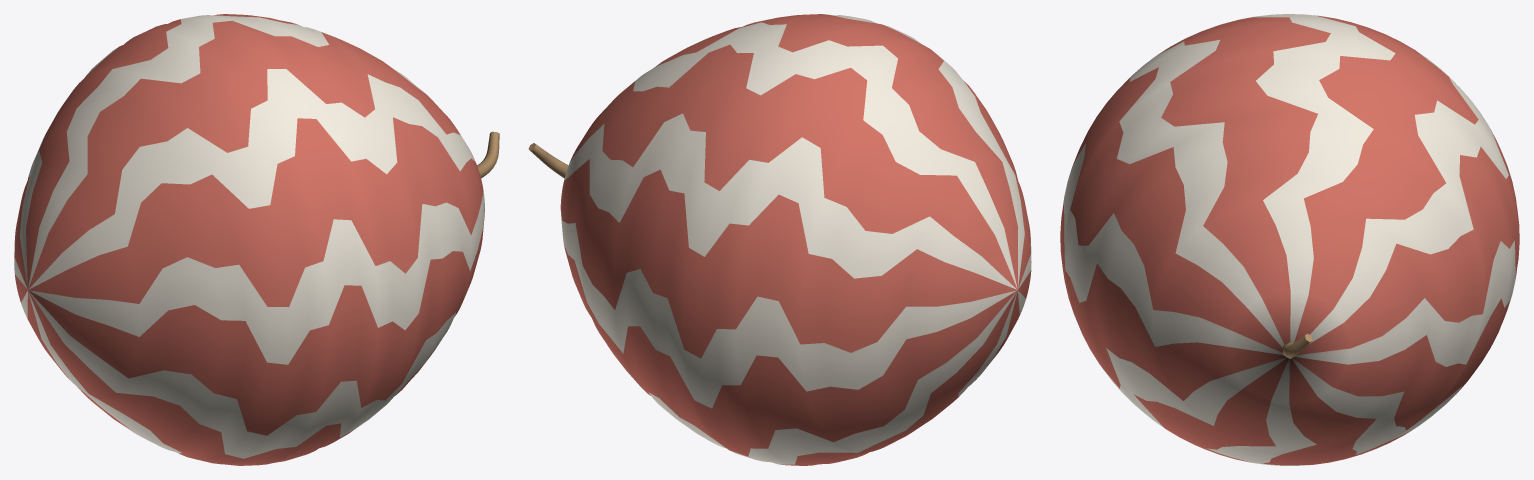
The model's file is food_watermelon.glb.
3 views of the same model, side by side, from view 1: azimuth 30°, elevation 25°; view 2: azimuth 150°, elevation 25°; view 3: azimuth 270°, elevation 25° (orthographic).
Parts seen in each view (by area): view 1: PART; view 2: PART; view 3: PART.
Part boxes in pixels (x1,y1,x2,y2): PART: (14,14,499,465); PART: (528,14,1031,465); PART: (1060,14,1519,465).
Size of the model in its own units: 0.2377 by 0.1949 by 0.1949.
